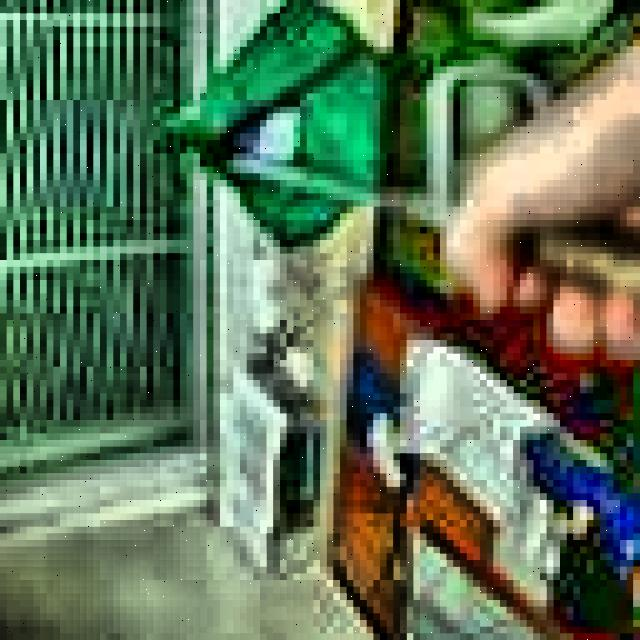knife: (233, 154, 640, 294)
